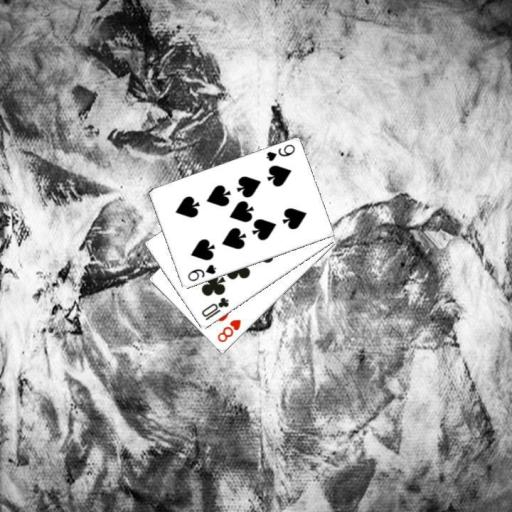10C: (199, 295, 231, 322)
8H: (214, 317, 243, 344)
9S: (263, 141, 297, 163), (184, 262, 218, 283)
